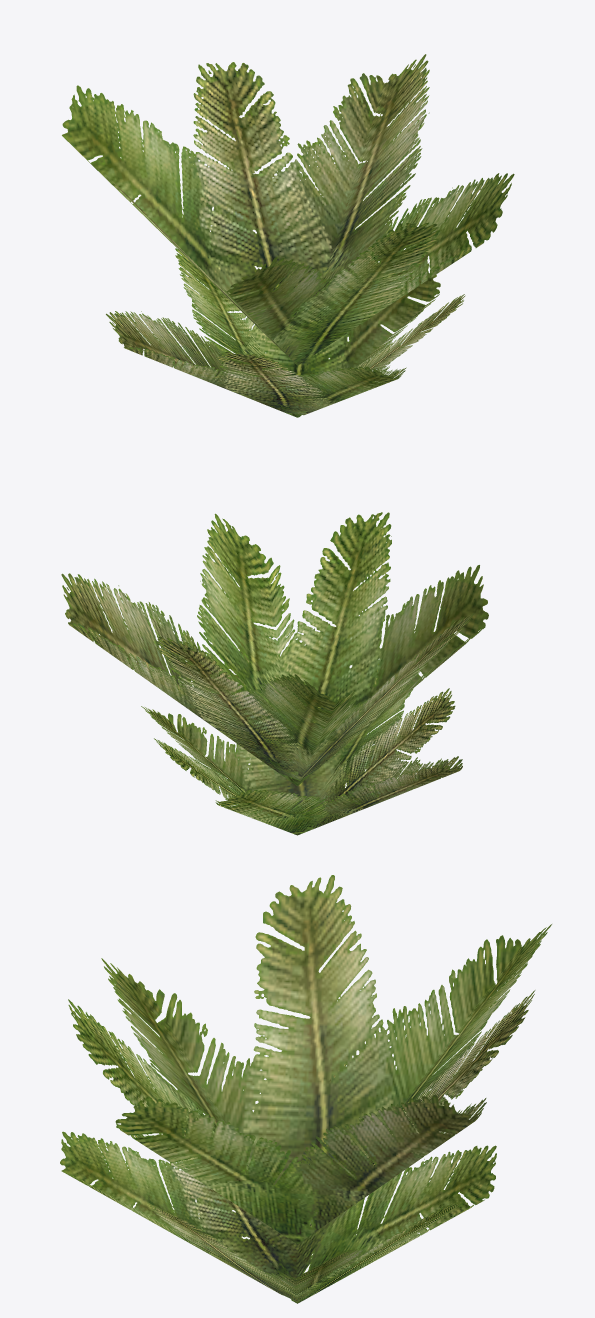
The model's file is bush_tropic_a.glb.
3 renders of one model, top to bottom at view 1: azimuth 30°, elevation 25°; view 2: azimuth 150°, elevation 25°; view 3: azimuth 270°, elevation 25°, orthographic. The views are drawn at different scales.
Parts seen in each view (by area): view 1: bush_tropic_a; view 2: bush_tropic_a; view 3: bush_tropic_a.
Boxes of the visible parts, x1,y1,x2,y2 form: bush_tropic_a: [62, 54, 514, 417]; bush_tropic_a: [61, 512, 488, 835]; bush_tropic_a: [60, 875, 551, 1303].
Size of the model in its own units: 3.79 by 2.4 by 3.79.
1 material, 1 textured.
